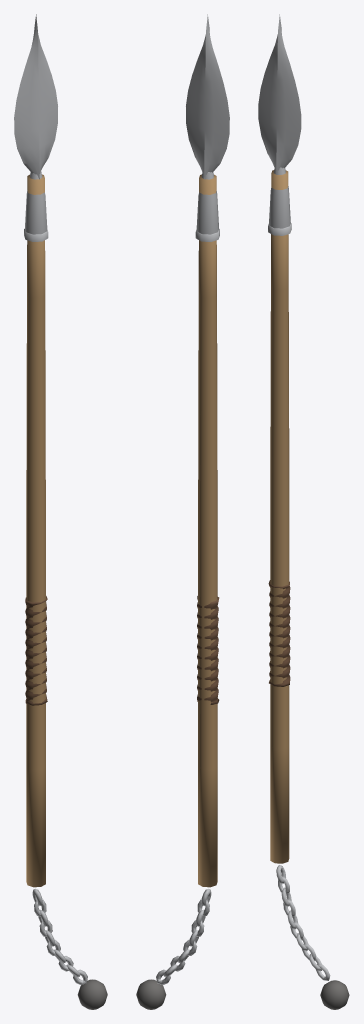
The model's file is chain-spear.glb.
3 renders of one model, left to right at view 1: azimuth 30°, elevation 25°; view 2: azimuth 150°, elevation 25°; view 3: azimuth 330°, elevation 25°, orthographic. The views are drawn at different scales.
Parts seen in each view (by area): view 1: chain-spear; view 2: chain-spear; view 3: chain-spear.
Part boxes in pixels (<box>): chain-spear: <box>14,14,107,1009</box>; chain-spear: <box>136,14,229,1009</box>; chain-spear: <box>258,14,349,1009</box>.
Size of the model in its own units: 0.4211 by 4.42 by 0.12.
